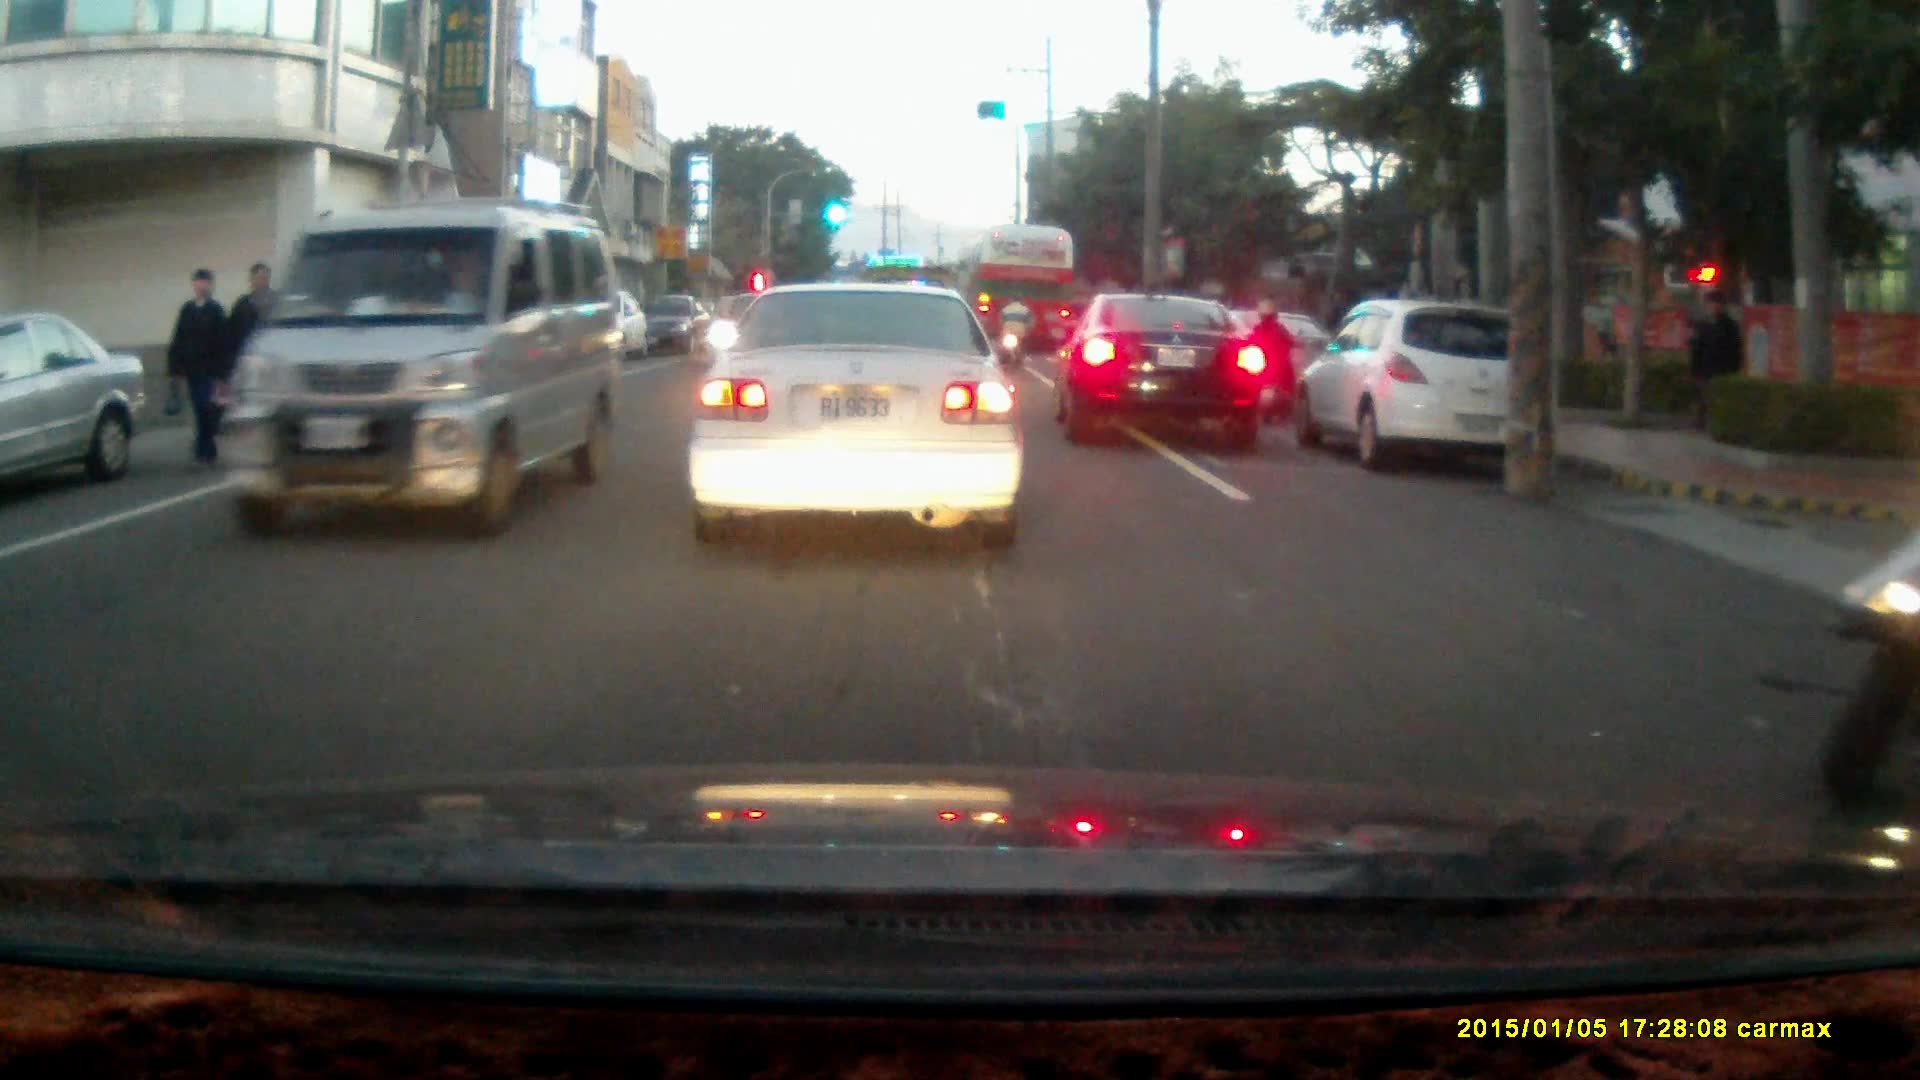pedestrian: (162, 265, 231, 471), (224, 260, 284, 450), (1689, 287, 1746, 441)
rider: (1248, 298, 1303, 428), (998, 292, 1036, 371)
vehicle: (201, 197, 627, 539), (685, 281, 1029, 552), (1287, 296, 1554, 477), (1055, 293, 1274, 453), (1, 309, 144, 501), (968, 222, 1079, 361)
